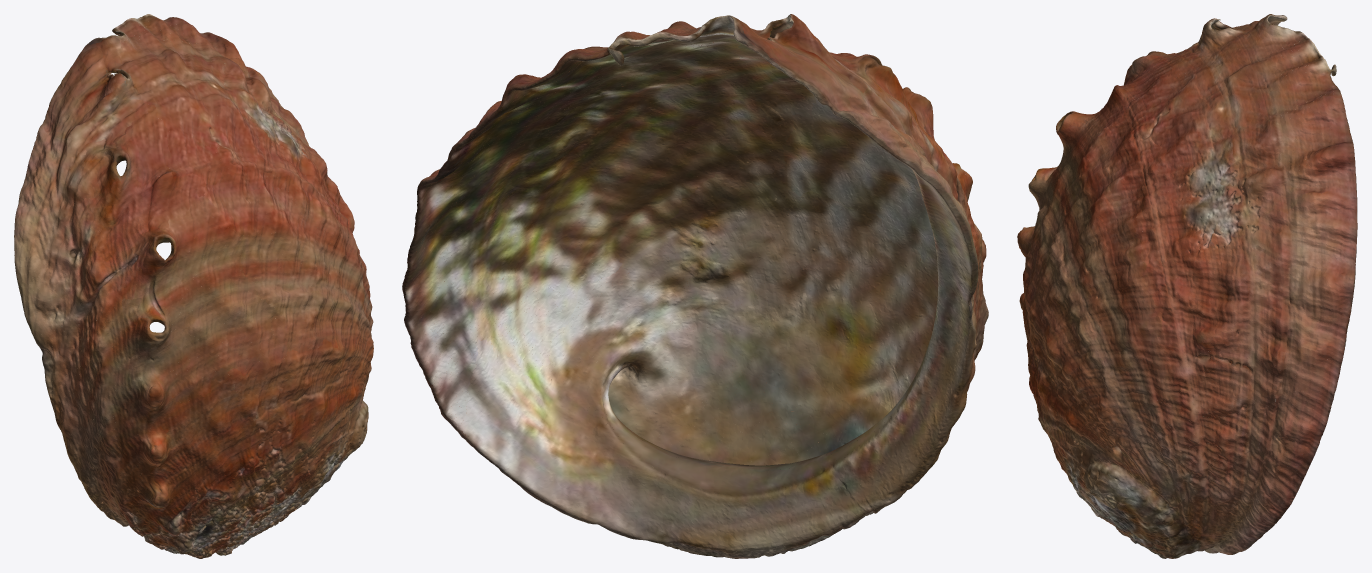
The model's file is red_abalone_shell.glb.
3 renders of one model, left to right at view 1: azimuth 30°, elevation 25°; view 2: azimuth 150°, elevation 25°; view 3: azimuth 270°, elevation 25°, orthographic. The views are drawn at different scales.
Parts seen in each view (by area): view 1: Object_23, Object_22, Object_9, Object_2, Object_21, Object_8, Object_3, Object_5, Object_24, Object_10, Object_4, Object_11 (+5 smaller); view 2: Object_18, Object_15, Object_16, Object_17, Object_14, Object_9, Object_2, Object_24, Object_4, Object_22, Object_5, Object_13 (+3 smaller); view 3: Object_10, Object_21, Object_19, Object_20, Object_13, Object_23, Object_6, Object_24, Object_22, Object_14, Object_5, Object_9 (+5 smaller).
Boxes of the visible parts, bbox=[...] form: Object_23: bbox=[14, 170, 361, 455]; Object_22: bbox=[14, 32, 332, 455]; Object_9: bbox=[121, 188, 288, 404]; Object_2: bbox=[40, 15, 203, 535]; Object_21: bbox=[117, 33, 363, 473]; Object_8: bbox=[227, 338, 343, 532]; Object_3: bbox=[86, 14, 248, 552]; Object_5: bbox=[16, 19, 274, 499]; Object_24: bbox=[14, 140, 360, 351]; Object_10: bbox=[122, 66, 358, 404]; Object_4: bbox=[14, 50, 302, 550]; Object_11: bbox=[62, 102, 354, 558]; Object_18: bbox=[405, 28, 972, 556]; Object_15: bbox=[458, 174, 974, 558]; Object_16: bbox=[404, 16, 972, 540]; Object_17: bbox=[404, 16, 794, 426]; Object_14: bbox=[416, 173, 972, 558]; Object_9: bbox=[774, 96, 960, 262]; Object_2: bbox=[564, 14, 934, 139]; Object_24: bbox=[665, 93, 975, 391]; Object_4: bbox=[714, 15, 951, 442]; Object_22: bbox=[622, 28, 988, 379]; Object_5: bbox=[489, 47, 931, 367]; Object_13: bbox=[410, 175, 972, 543]; Object_10: bbox=[1018, 119, 1357, 360]; Object_21: bbox=[1048, 19, 1341, 503]; Object_19: bbox=[1047, 331, 1344, 558]; Object_20: bbox=[1047, 338, 1341, 558]; Object_13: bbox=[1049, 329, 1322, 554]; Object_23: bbox=[1030, 125, 1162, 369]; Object_6: bbox=[1073, 90, 1355, 558]; Object_24: bbox=[1034, 125, 1161, 368]; Object_22: bbox=[1017, 41, 1298, 277]; Object_14: bbox=[1055, 331, 1313, 554]; Object_5: bbox=[1018, 96, 1354, 320]; Object_9: bbox=[1027, 117, 1114, 302].
Bounding box in the file's own units: 125 × 151 × 93.71.
Materials: 1 (1 with a texture image).
